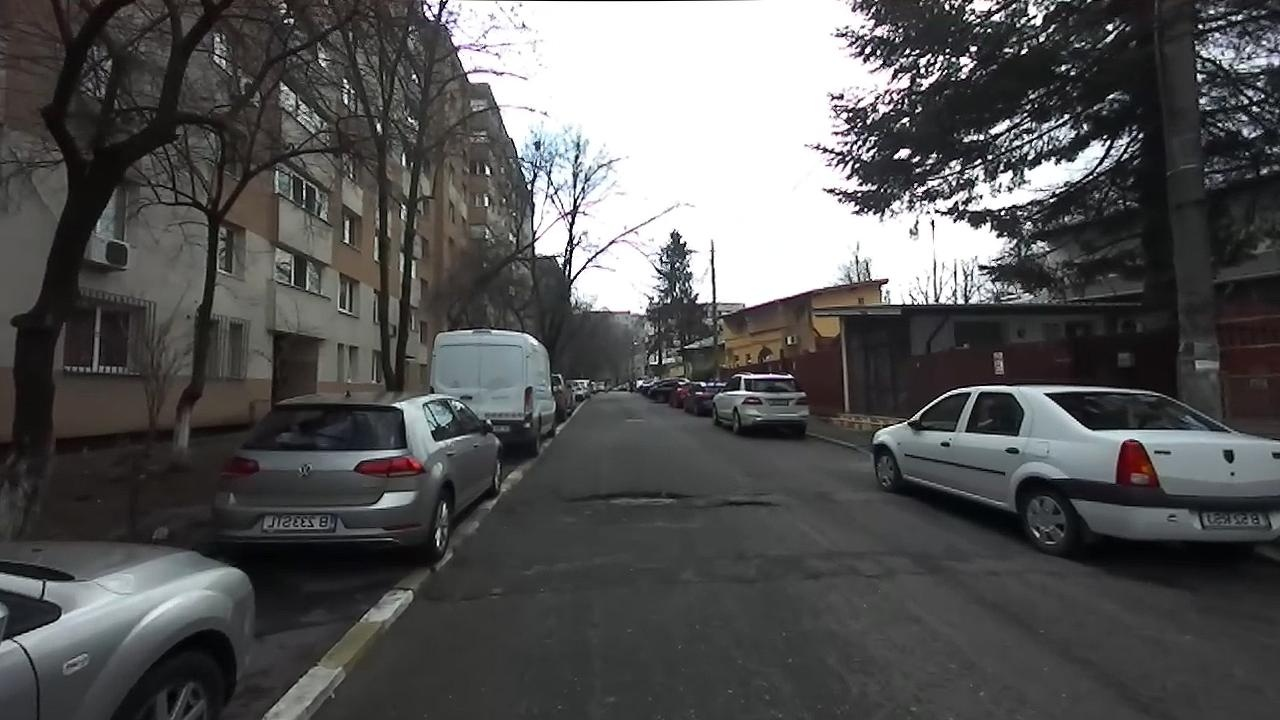pothole: (559, 487, 695, 510), (430, 584, 510, 608), (701, 496, 782, 510)
